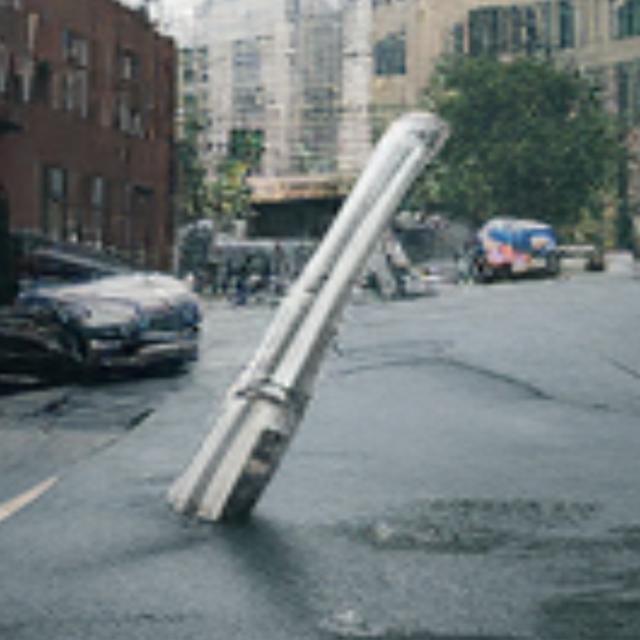Inclined Pole: (162, 110, 451, 525)
